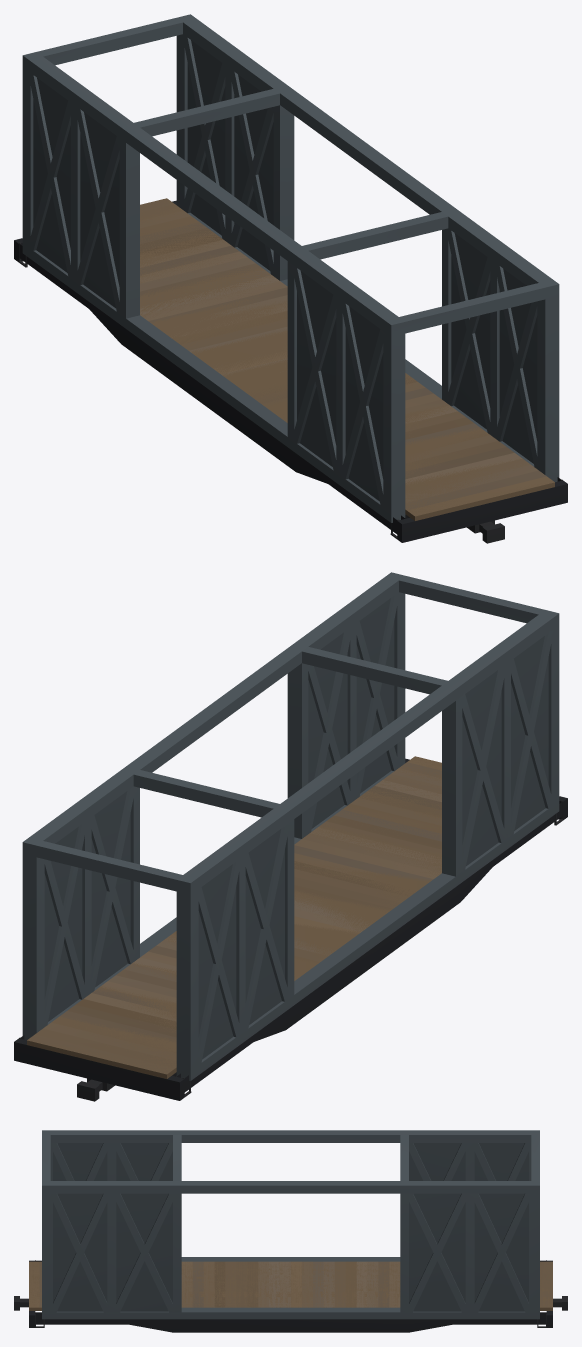
Rendered from truss.glb.
3 views of the same model, one above another, from view 1: azimuth 30°, elevation 25°; view 2: azimuth 150°, elevation 25°; view 3: azimuth 270°, elevation 25° (orthographic). The views are drawn at different scales.
Parts seen in each view (by area): view 1: Far, Body; view 2: Far, Body; view 3: Far, Body.
Part boxes in pixels (x1,y1,x2,y2): Far: [22, 14, 559, 522]; Body: [14, 198, 567, 543]; Far: [22, 572, 559, 1080]; Body: [14, 756, 567, 1101]; Far: [29, 1130, 552, 1319]; Body: [14, 1260, 567, 1332].
Size of the model in its own units: 6 by 7.73 by 25.36.
